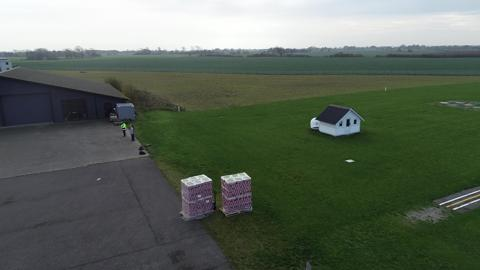RockwoolPallet: (221, 171, 253, 217)
